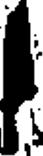Reed: (4, 2, 41, 155)
